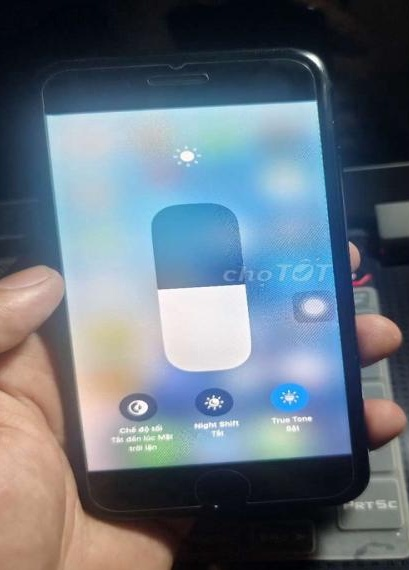scratch: (202, 499, 231, 511)
